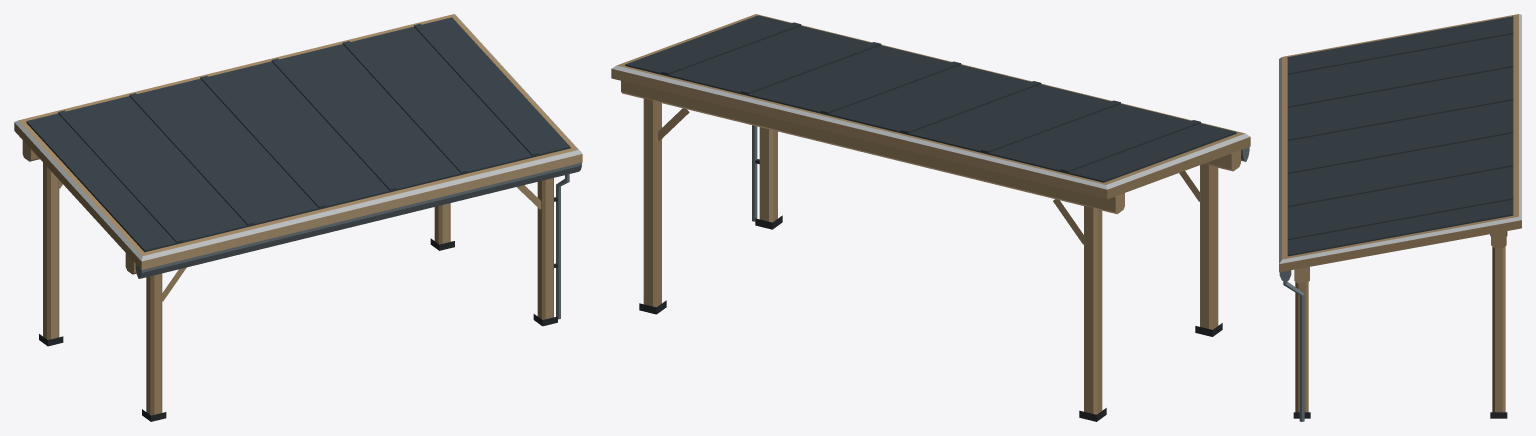
The model's file is open-carport-c16151.glb.
3 views of the same model, side by side, from view 1: azimuth 30°, elevation 25°; view 2: azimuth 150°, elevation 25°; view 3: azimuth 270°, elevation 25° (orthographic). The views are drawn at different scales.
Parts seen in each view (by area): view 1: carport; view 2: carport; view 3: carport.
Part boxes in pixels (x1,y1,x2,y2): carport: [14, 14, 582, 421]; carport: [611, 14, 1250, 421]; carport: [1279, 14, 1521, 421].
Size of the model in its own units: 8 by 3.82 by 4.
